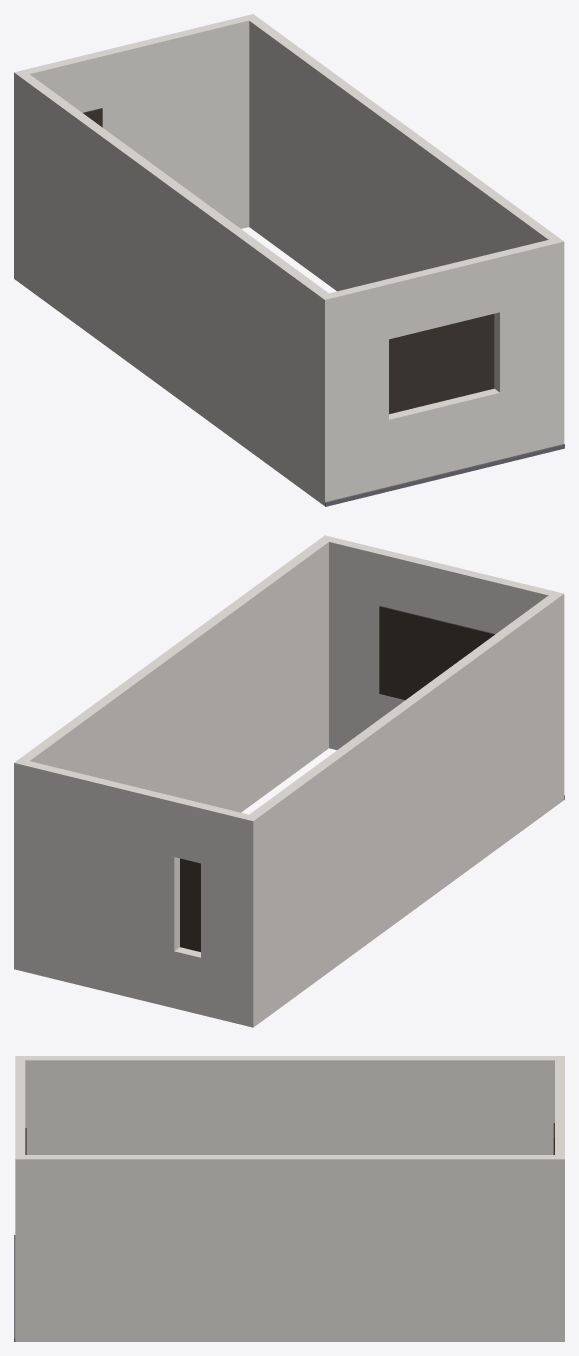
Rendered from SM_Floor_NarrowUpperWindow_White_364_Back_01.gltf.
3 renders of one model, top to bottom at view 1: azimuth 30°, elevation 25°; view 2: azimuth 150°, elevation 25°; view 3: azimuth 270°, elevation 25°, orthographic. The views are drawn at different scales.
Visible parts, largest first — view 1: SM_Floor_NarrowUpperWindow_White_364_Back_01; view 2: SM_Floor_NarrowUpperWindow_White_364_Back_01; view 3: SM_Floor_NarrowUpperWindow_White_364_Back_01.
Part boxes in pixels (box(x1,y1,x2,y2)): SM_Floor_NarrowUpperWindow_White_364_Back_01: box(14, 14, 564, 506); SM_Floor_NarrowUpperWindow_White_364_Back_01: box(14, 535, 564, 1027); SM_Floor_NarrowUpperWindow_White_364_Back_01: box(14, 1056, 564, 1341).
Bounding box in the file's own units: 3.64 × 3 × 8.21.
1 material, 1 textured.
